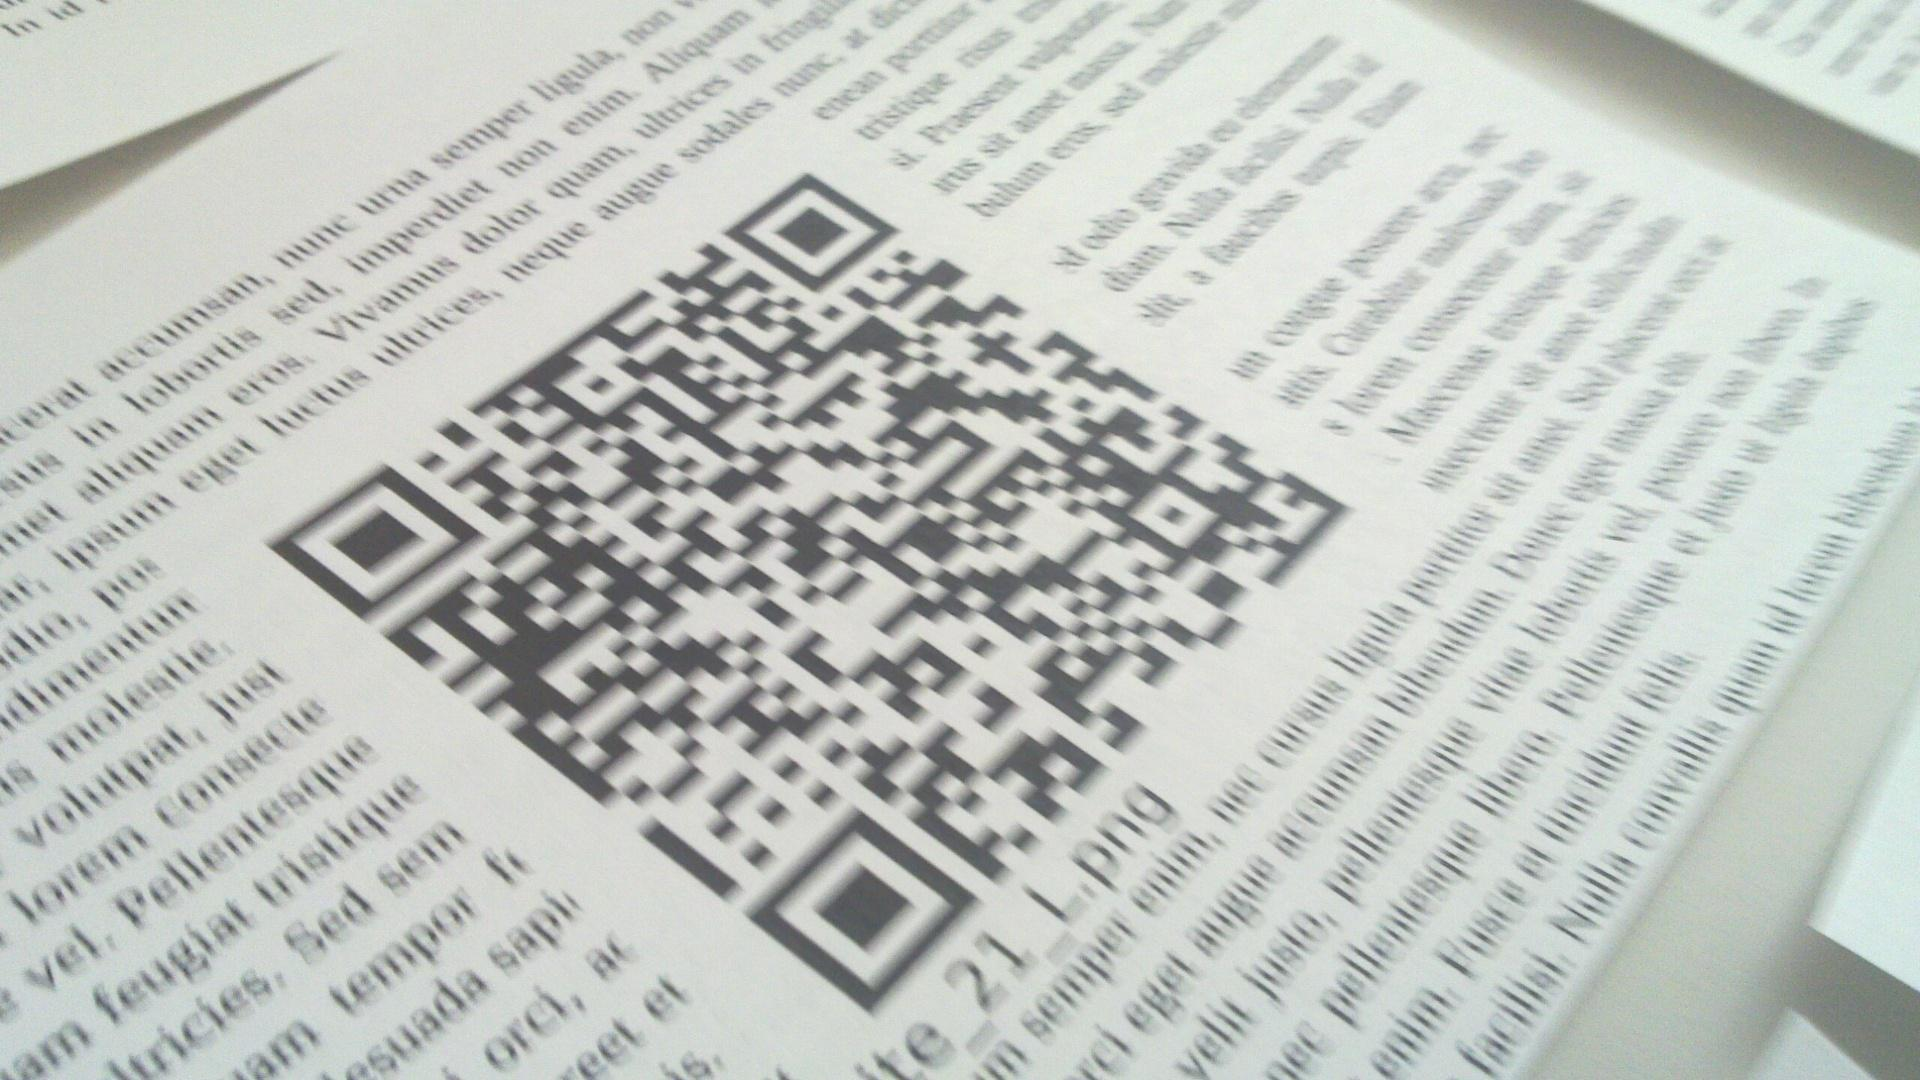Finder pattern: (748, 820, 976, 1005), (269, 475, 483, 611), (723, 173, 898, 295)
